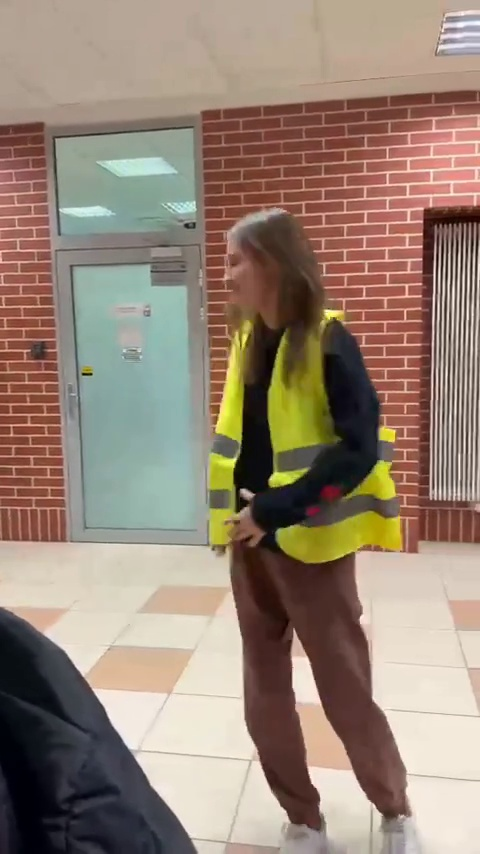vest: (198, 208, 422, 846)
